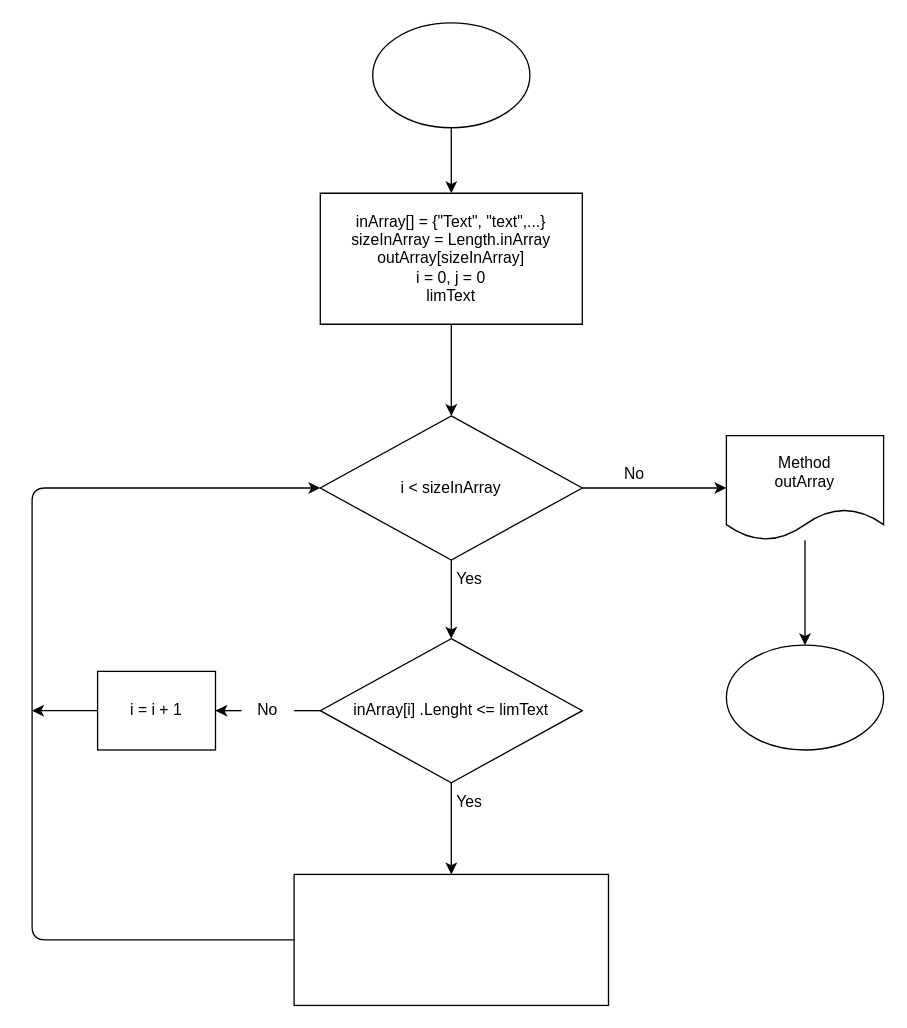
The diagram is 907 pixels wide and 1028 high, and some of its shapes have lost their labels. The centre of each missing label's shape, as x and y in pixels:
End: [804,697]
outArray[j] = inArray[i] i = i + 1 j = j + 1: [450,939]
Start: [450,75]
